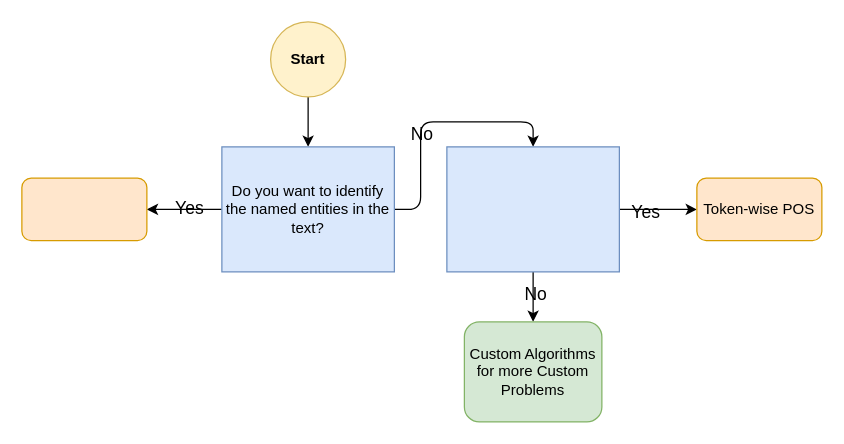
Some shapes in this 844 by 444 pixel diagram are drawn without their labels. Here are the shapes that lost their labels. From the top down, the box of each, then its label:
(21, 177, 147, 241): Token-wise NER
(446, 146, 619, 272): Do you want to identify the Part-of-Speech tags for words in the text?
